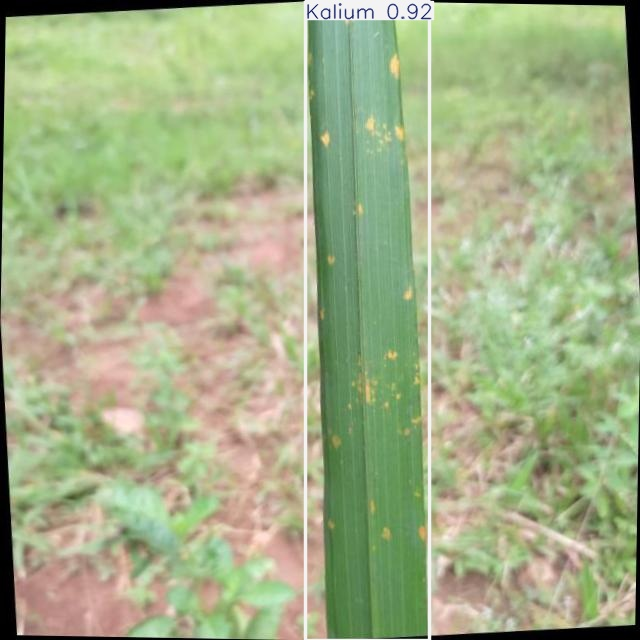Kalium: (306, 1, 430, 640)
